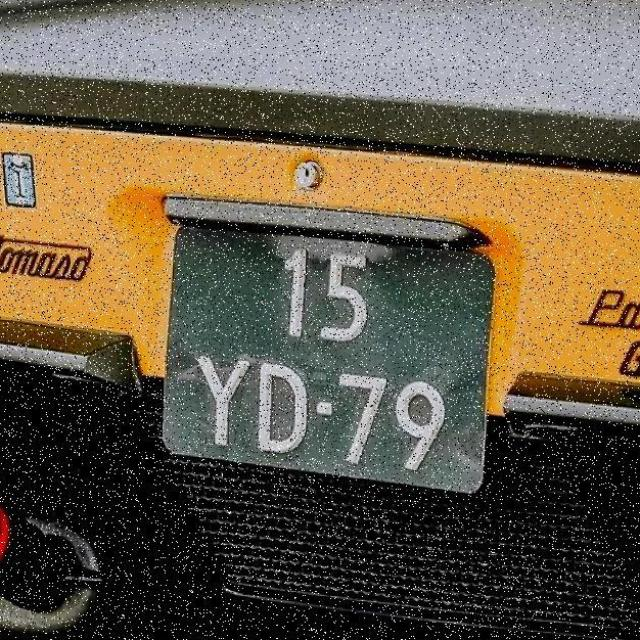LicensePlate: (158, 221, 501, 502)
